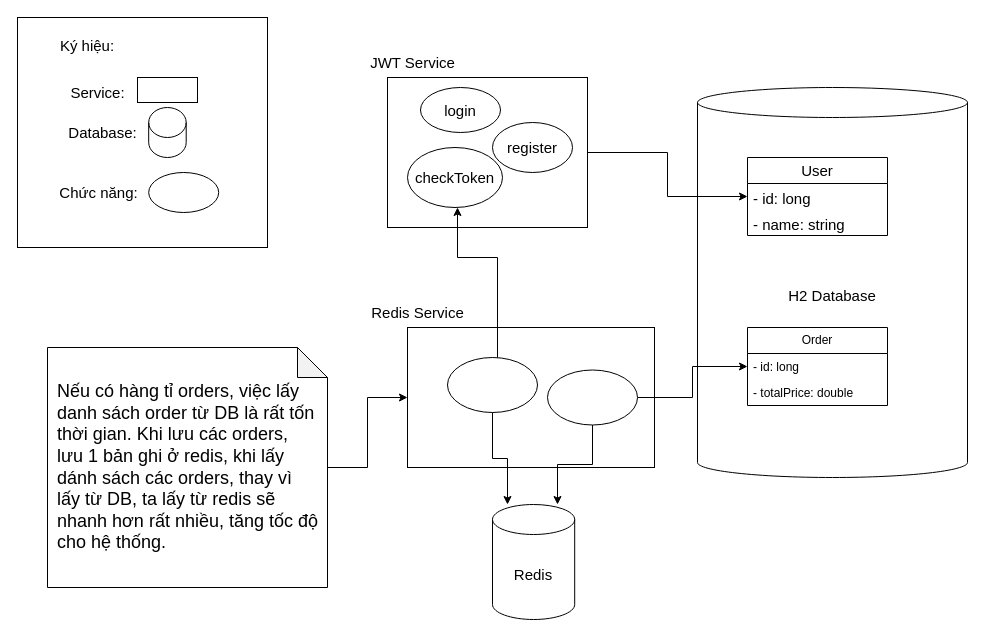
This 985x637 diagram has some shape labels left out. Each missing label, with the centre of its shape:
getAll: the point at 492,384
saveOrder: the point at 592,397
